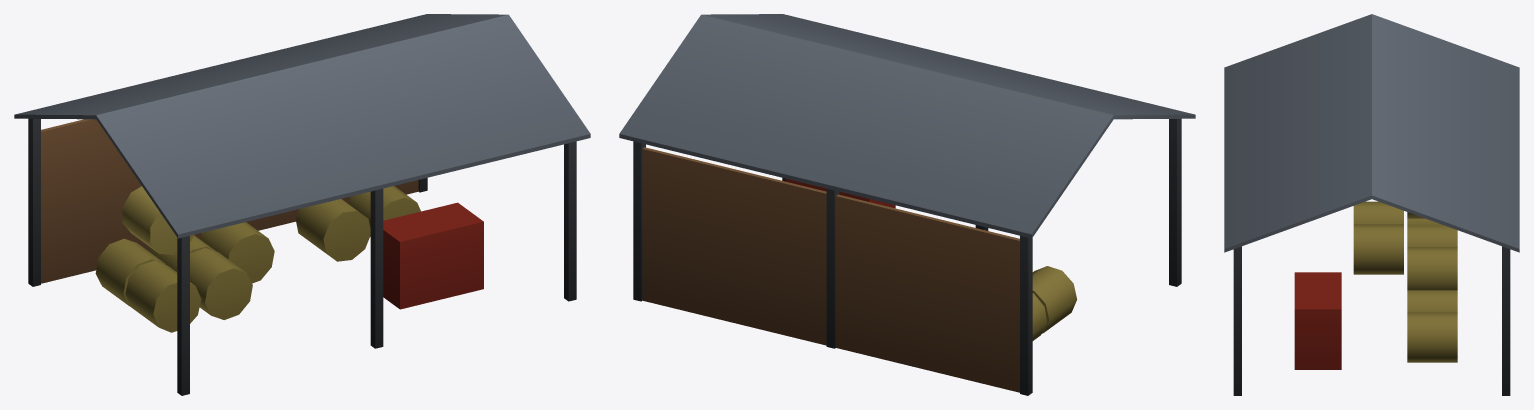
File: Hangar.fbx
3 views of the same model, side by side, from view 1: azimuth 30°, elevation 25°; view 2: azimuth 150°, elevation 25°; view 3: azimuth 270°, elevation 25° (orthographic). The views are drawn at different scales.
Parts seen in each view (by area): view 1: Hangar_LOD0; view 2: Hangar_LOD0; view 3: Hangar_LOD0.
Part boxes in pixels (x1,y1,x2,y2): Hangar_LOD0: (14,14,590,395); Hangar_LOD0: (619,14,1195,395); Hangar_LOD0: (1224,14,1519,395).
Bounding box in the file's own units: 1.83 × 0.96 × 1.26.
Materials: 1 (1 with a texture image).
